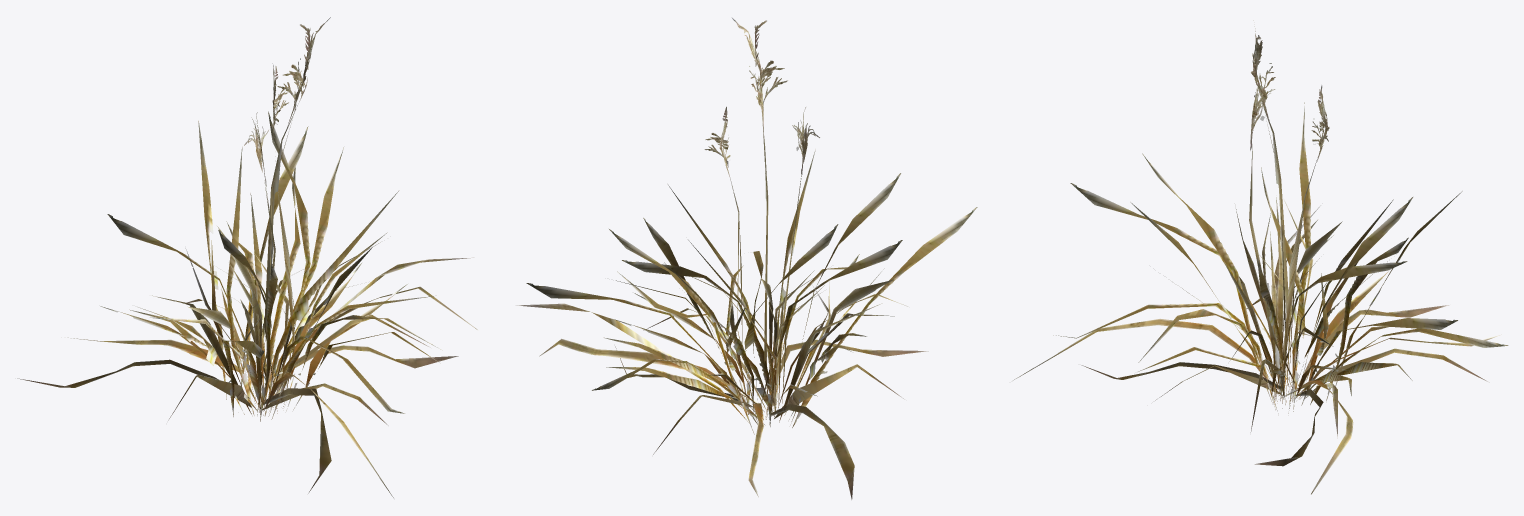
The model's file is co-kho-c.glb.
3 views of the same model, side by side, from view 1: azimuth 30°, elevation 25°; view 2: azimuth 150°, elevation 25°; view 3: azimuth 270°, elevation 25° (orthographic). The views are drawn at different scales.
Visible parts, largest first — view 1: grass_medium_01_mid_b_LOD0; view 2: grass_medium_01_mid_b_LOD0; view 3: grass_medium_01_mid_b_LOD0.
Boxes of the visible parts, bbox=[...] form: grass_medium_01_mid_b_LOD0: bbox=[17, 17, 477, 497]; grass_medium_01_mid_b_LOD0: bbox=[515, 17, 977, 499]; grass_medium_01_mid_b_LOD0: bbox=[1013, 20, 1508, 494].
Bounding box in the file's own units: 0.9318 × 0.8829 × 0.9972.
1 material, 1 textured.
